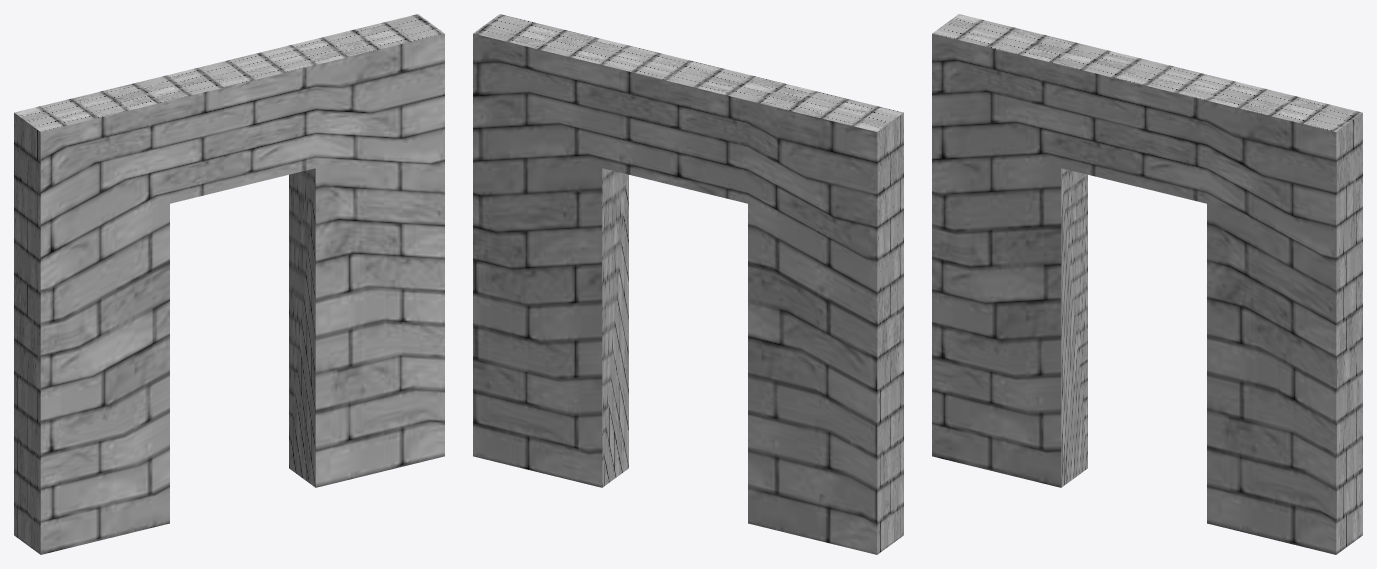
Rendered from pared con puerta con tex.fbx.
The picture shows the model from 3 angles, left to right: view 1: azimuth 30°, elevation 25°; view 2: azimuth 150°, elevation 25°; view 3: azimuth 330°, elevation 25°; orthographic projection.
Visible parts, largest first — view 1: pared con puerta; view 2: pared con puerta; view 3: pared con puerta.
Part boxes in pixels (x1,y1,x2,y2): pared con puerta: (14,14,444,554); pared con puerta: (473,14,903,554); pared con puerta: (932,14,1362,554).
Size of the model in its own units: 300 by 300 by 34.34.
